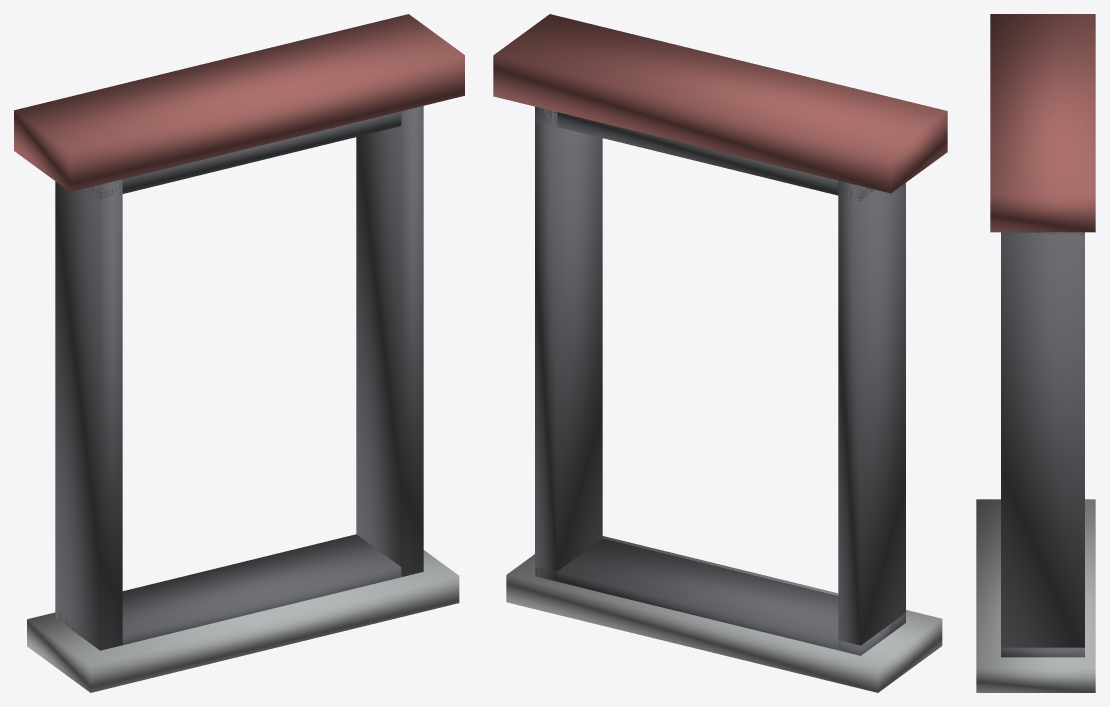
The model's file is egress_window_brick_w86_h130_s55_d24.glb.
The picture shows the model from 3 angles, left to right: view 1: azimuth 30°, elevation 25°; view 2: azimuth 150°, elevation 25°; view 3: azimuth 270°, elevation 25°; orthographic projection. The views are drawn at different scales.
Visible parts, largest first — view 1: world; view 2: world; view 3: world.
Boxes of the visible parts, <box> form: world: <box>14,14,464,692</box>; world: <box>493,14,947,692</box>; world: <box>976,14,1095,692</box>.
Bounding box in the file's own units: 1.22 × 1.59 × 0.34.
